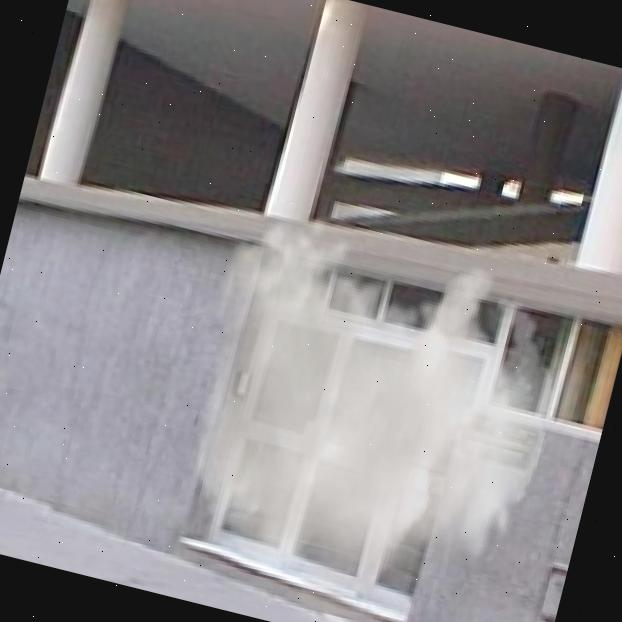smoke: (143, 193, 586, 622)
